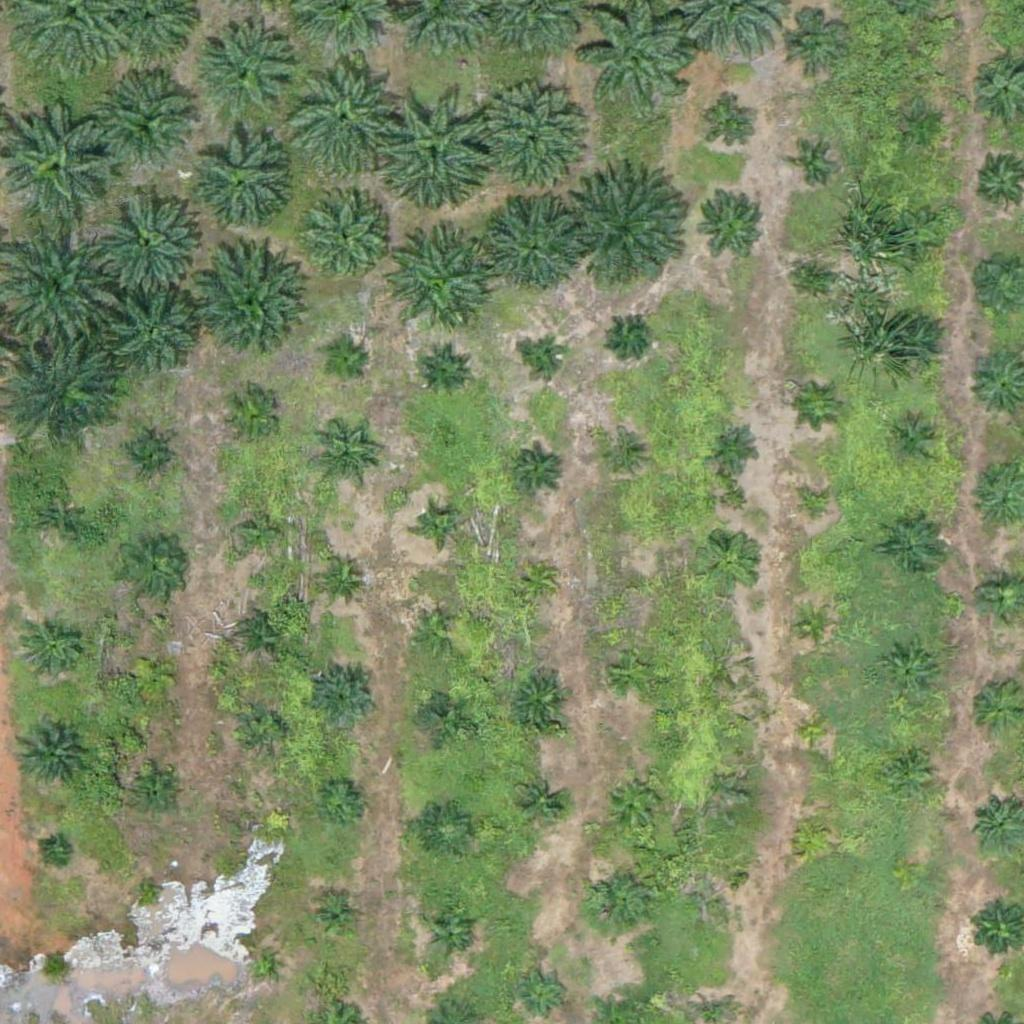Kelapa_Sawit: (374, 88, 499, 214), (282, 54, 407, 180), (570, 169, 695, 294), (191, 250, 304, 364), (471, 82, 584, 195), (92, 180, 204, 294), (2, 100, 114, 214), (380, 232, 492, 345), (481, 193, 581, 294), (295, 187, 395, 288), (196, 23, 296, 124), (188, 132, 288, 232), (101, 71, 201, 171), (110, 291, 198, 379), (14, 716, 89, 792), (694, 185, 769, 260), (312, 430, 375, 493), (218, 384, 281, 447), (585, 868, 648, 931), (884, 513, 947, 576), (314, 666, 377, 729), (880, 643, 943, 706), (885, 313, 948, 376), (781, 12, 844, 75), (229, 501, 292, 564), (122, 539, 184, 602), (22, 618, 84, 681), (509, 670, 571, 733), (603, 771, 665, 834), (699, 531, 761, 594), (26, 488, 88, 551), (421, 805, 471, 856), (889, 417, 939, 468), (419, 687, 469, 738), (239, 609, 289, 660), (708, 102, 758, 153), (896, 211, 946, 262), (315, 552, 365, 603), (240, 703, 290, 754), (119, 430, 169, 481), (128, 649, 178, 700), (316, 776, 366, 827), (514, 776, 564, 827), (518, 966, 568, 1017), (426, 908, 476, 959), (419, 345, 469, 395), (513, 443, 563, 493), (883, 744, 933, 794), (709, 422, 759, 472), (609, 647, 659, 697), (412, 607, 462, 657), (320, 340, 370, 390), (134, 770, 184, 820), (311, 893, 361, 943), (803, 387, 841, 425), (610, 315, 648, 353), (903, 104, 941, 142), (796, 488, 834, 526), (794, 607, 832, 645), (796, 714, 834, 752), (792, 814, 830, 852), (518, 561, 556, 599), (421, 506, 459, 544), (527, 341, 564, 379), (604, 439, 641, 477), (616, 568, 653, 606), (699, 866, 736, 904), (794, 149, 831, 186), (798, 259, 835, 296), (43, 839, 68, 865), (248, 950, 273, 975), (136, 877, 161, 902)
